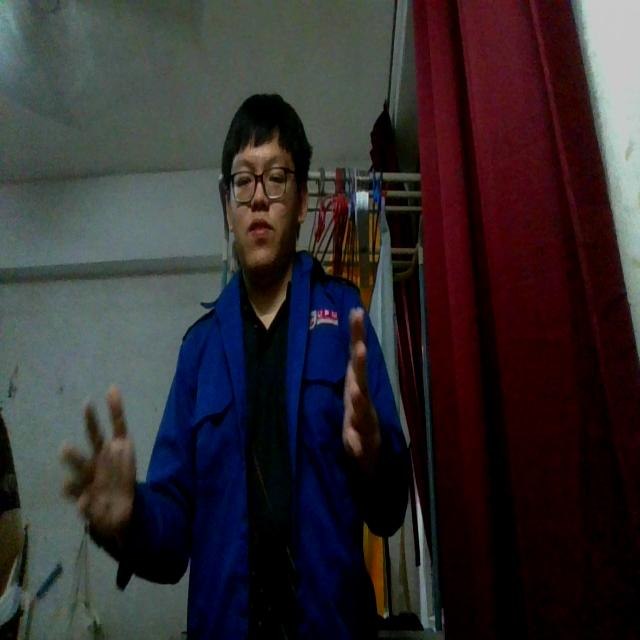person_with_labcoat: (62, 95, 408, 639)
